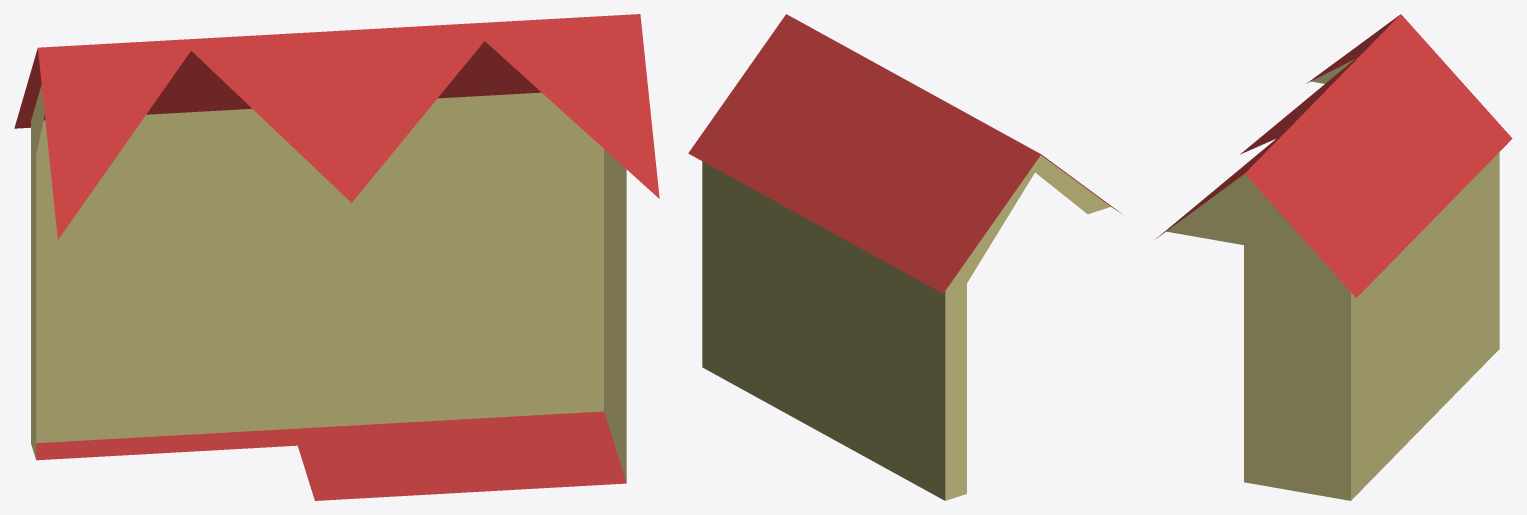
The picture shows the model from 3 angles, left to right: view 1: azimuth 30°, elevation 25°; view 2: azimuth 150°, elevation 25°; view 3: azimuth 270°, elevation 25°; orthographic projection. The views are drawn at different scales.
Bounding box in the file's own units: 23.2 × 17.99 × 17.31.
